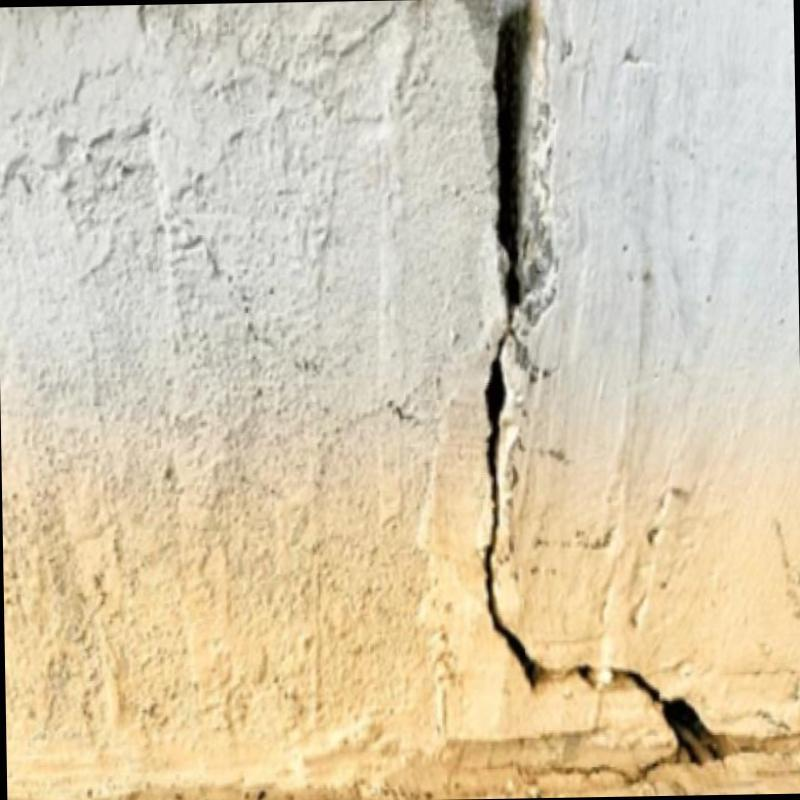pothole: (483, 17, 721, 762)
